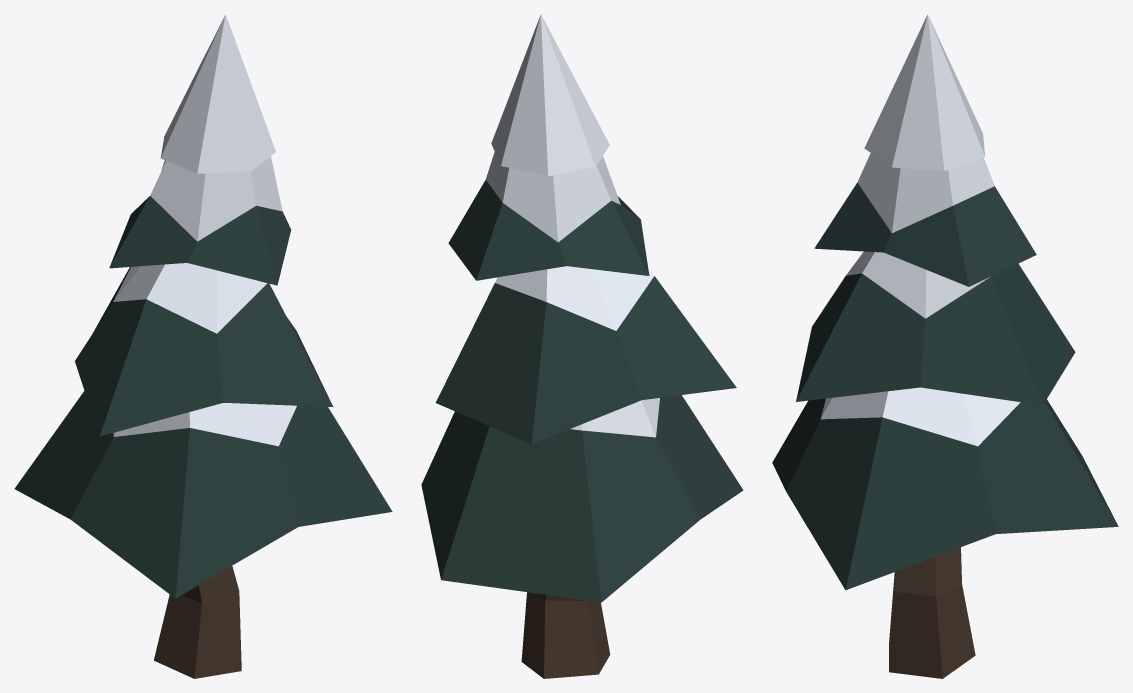
Rendered from tree_a.glb.
3 renders of one model, left to right at view 1: azimuth 30°, elevation 25°; view 2: azimuth 150°, elevation 25°; view 3: azimuth 270°, elevation 25°, orthographic. The views are drawn at different scales.
Visible parts, largest first — view 1: Scenery; view 2: Scenery; view 3: Scenery.
Part boxes in pixels (x1=…): Scenery: x1=14, y1=14, x2=392, y2=678; Scenery: x1=421, y1=14, x2=743, y2=678; Scenery: x1=772, y1=14, x2=1118, y2=678.
Size of the model in its own units: 3.27 by 6.98 by 3.32.
